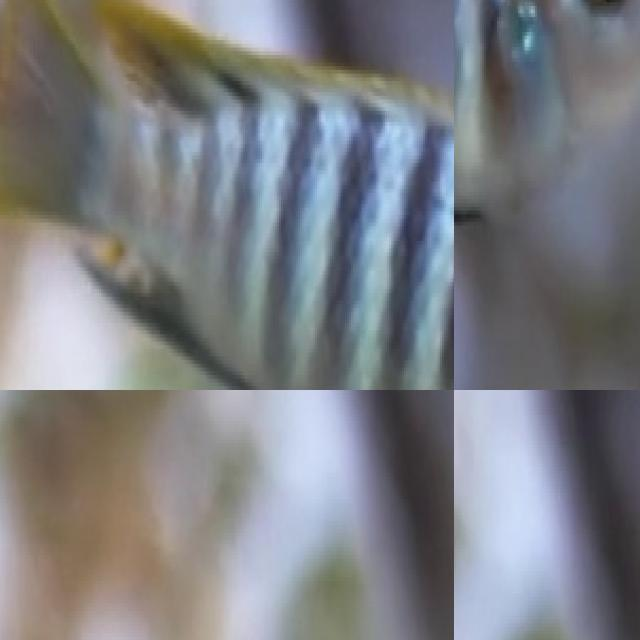fish: (0, 0, 454, 390)
